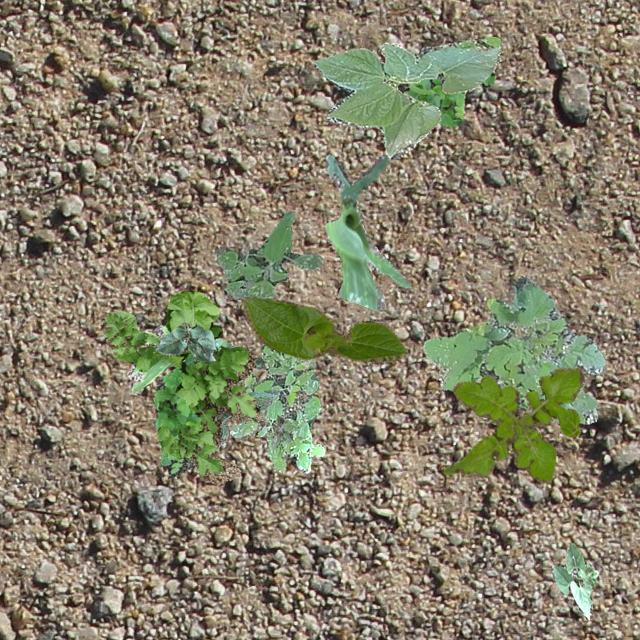crop: (312, 35, 500, 158), (324, 154, 411, 310), (242, 296, 406, 362), (126, 323, 262, 392), (552, 542, 598, 620), (154, 322, 214, 361)
weed: (100, 290, 260, 484), (422, 276, 604, 422), (442, 366, 582, 482), (228, 342, 324, 472), (214, 210, 322, 298), (153, 354, 205, 476), (402, 72, 494, 126), (217, 389, 277, 446), (270, 414, 292, 446)
